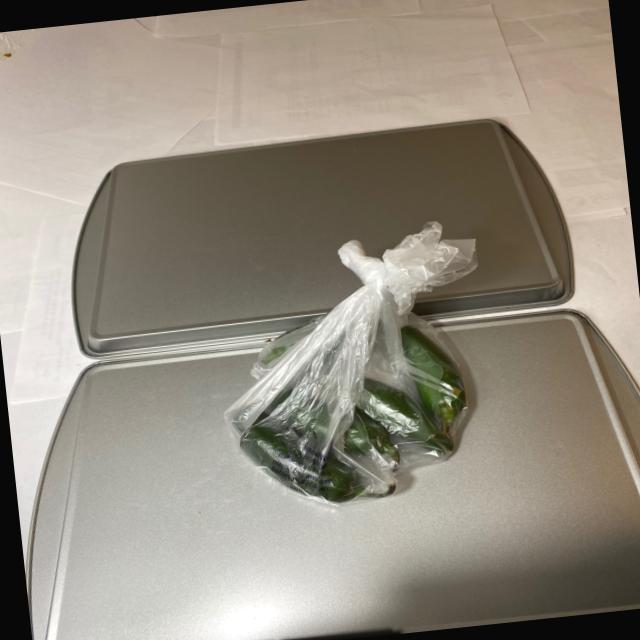chilli: (220, 317, 478, 519)
